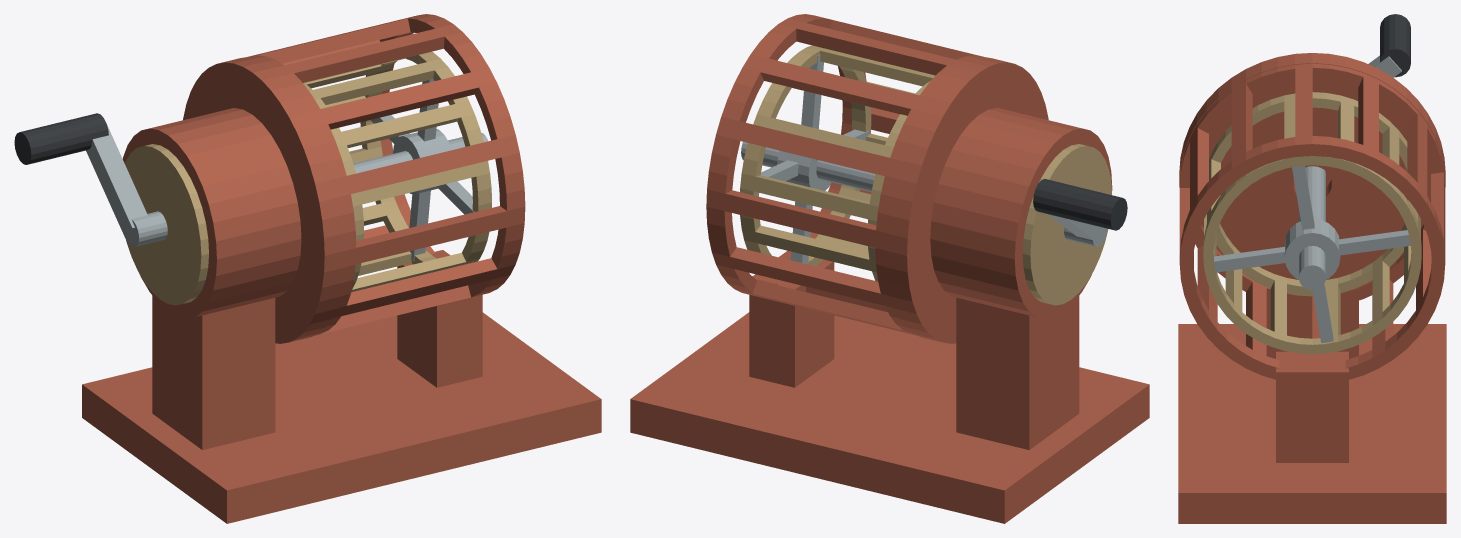
3 views of the same model, side by side, from view 1: azimuth 30°, elevation 25°; view 2: azimuth 150°, elevation 25°; view 3: azimuth 270°, elevation 25° (orthographic). The views are drawn at different scales.
Visible parts, largest first — view 1: WholeGroundFootBase, WholeStationaryTwelveWindowDrum, WholeRoundGearCase, WholeStationaryAnnularRearMount, WholeRearCaseUpright, WholeNestedTwelveWindowRotor, WholeRecessedCaseSideCover, WholeFrontDrumSupport, WholeCrankHandGrip, WholeOffsetCrankArm, WholeContinuousHorizontalShaft, WholeRotorFrontHub (+2 smaller); view 2: WholeGroundFootBase, WholeStationaryTwelveWindowDrum, WholeRoundGearCase, WholeStationaryAnnularRearMount, WholeRearCaseUpright, WholeNestedTwelveWindowRotor, WholeRecessedCaseSideCover, WholeFrontDrumSupport, WholeCrankHandGrip, WholeContinuousHorizontalShaft, WholeRotorFrontHub, WholeRotorFrontSpoke_1 (+1 smaller); view 3: WholeGroundFootBase, WholeStationaryTwelveWindowDrum, WholeNestedTwelveWindowRotor, WholeStationaryAnnularRearMount, WholeFrontDrumSupport, WholeRotorFrontHub, WholeContinuousHorizontalShaft, WholeRearCaseUpright, WholeCrankHandGrip, WholeRotorFrontSpoke_0, WholeRotorFrontSpoke_2, WholeRotorFrontSpoke_1 (+2 smaller).
Boxes of the visible parts, x1=… form: WholeGroundFootBase: x1=82, y1=312, x2=601, y2=523; WholeStationaryTwelveWindowDrum: x1=248, y1=14, x2=525, y2=335; WholeRoundGearCase: x1=123, y1=108, x2=301, y2=318; WholeStationaryAnnularRearMount: x1=183, y1=57, x2=347, y2=343; WholeRearCaseUpright: x1=152, y1=296, x2=275, y2=449; WholeNestedTwelveWindowRotor: x1=303, y1=51, x2=491, y2=292; WholeRecessedCaseSideCover: x1=125, y1=144, x2=208, y2=305; WholeFrontDrumSupport: x1=397, y1=250, x2=482, y2=387; WholeCrankHandGrip: x1=14, y1=113, x2=108, y2=164; WholeOffsetCrankArm: x1=86, y1=125, x2=147, y2=238; WholeContinuousHorizontalShaft: x1=126, y1=133, x2=487, y2=246; WholeRotorFrontHub: x1=393, y1=129, x2=451, y2=194; WholeGroundFootBase: x1=630, y1=312, x2=1149, y2=523; WholeStationaryTwelveWindowDrum: x1=706, y1=14, x2=983, y2=335; WholeRoundGearCase: x1=930, y1=108, x2=1112, y2=318; WholeStationaryAnnularRearMount: x1=884, y1=57, x2=1048, y2=343; WholeRearCaseUpright: x1=956, y1=296, x2=1079, y2=449; WholeNestedTwelveWindowRotor: x1=740, y1=45, x2=935, y2=281; WholeRecessedCaseSideCover: x1=1022, y1=144, x2=1111, y2=305; WholeFrontDrumSupport: x1=749, y1=250, x2=834, y2=387; WholeCrankHandGrip: x1=1033, y1=179, x2=1127, y2=230; WholeContinuousHorizontalShaft: x1=741, y1=141, x2=1107, y2=246; WholeRotorFrontHub: x1=777, y1=150, x2=831, y2=190; WholeRotorFrontSpoke_1: x1=801, y1=55, x2=823, y2=128; WholeGroundFootBase: x1=1178, y1=324, x2=1446, y2=523; WholeStationaryTwelveWindowDrum: x1=1179, y1=63, x2=1445, y2=379; WholeNestedTwelveWindowRotor: x1=1203, y1=92, x2=1421, y2=353; WholeStationaryAnnularRearMount: x1=1179, y1=53, x2=1445, y2=279; WholeFrontDrumSupport: x1=1276, y1=351, x2=1348, y2=462; WholeRotorFrontHub: x1=1284, y1=218, x2=1340, y2=279; WholeContinuousHorizontalShaft: x1=1299, y1=166, x2=1325, y2=289; WholeRearCaseUpright: x1=1266, y1=300, x2=1358, y2=358; WholeCrankHandGrip: x1=1380, y1=14, x2=1410, y2=77; WholeRotorFrontSpoke_0: x1=1338, y1=230, x2=1410, y2=255; WholeRotorFrontSpoke_2: x1=1214, y1=247, x2=1285, y2=272; WholeRotorFrontSpoke_1: x1=1292, y1=165, x2=1314, y2=230.
Size of the model in its own units: 1.01 by 0.783 by 0.55.
